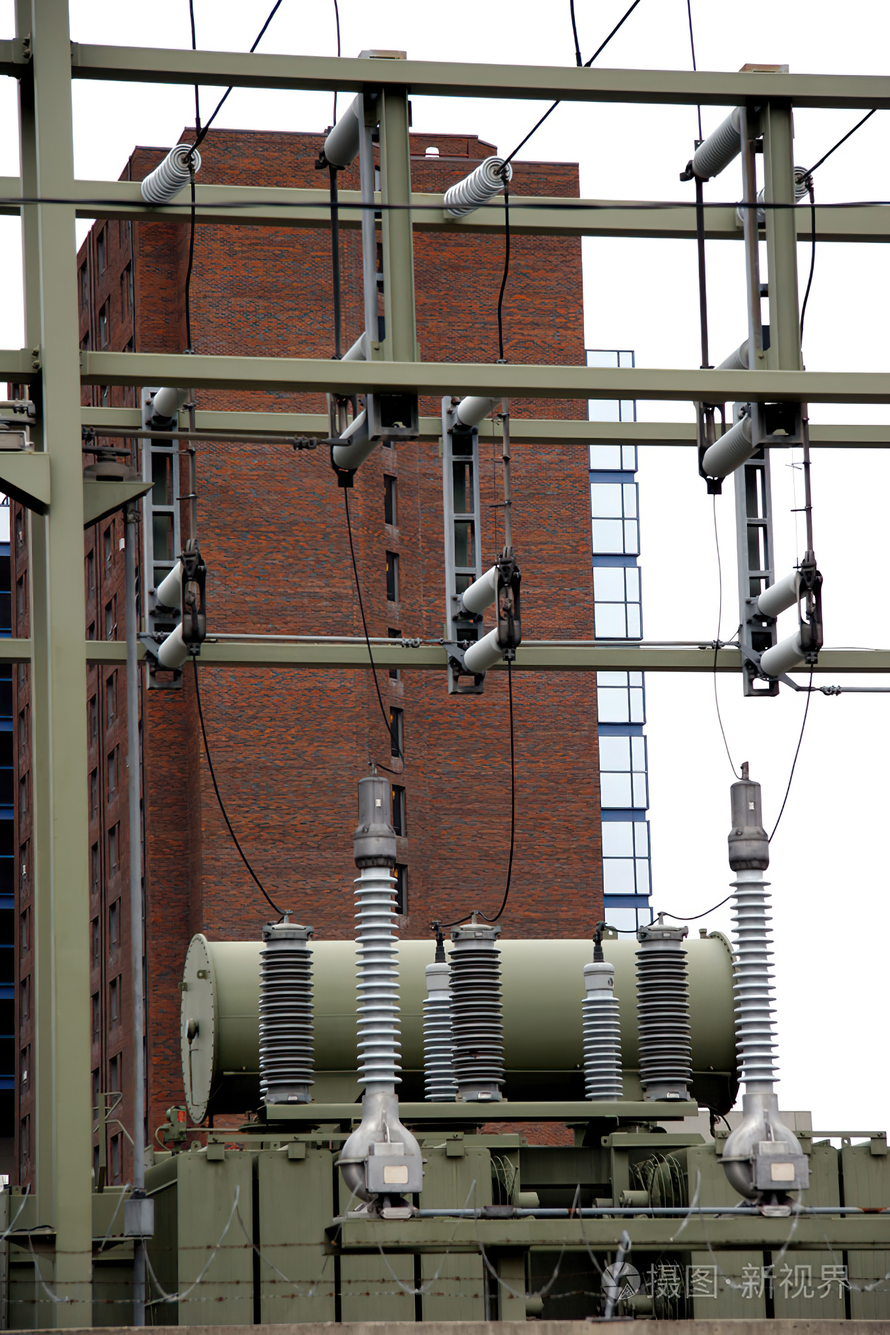insulator: (446, 157, 510, 219), (135, 145, 199, 196)
